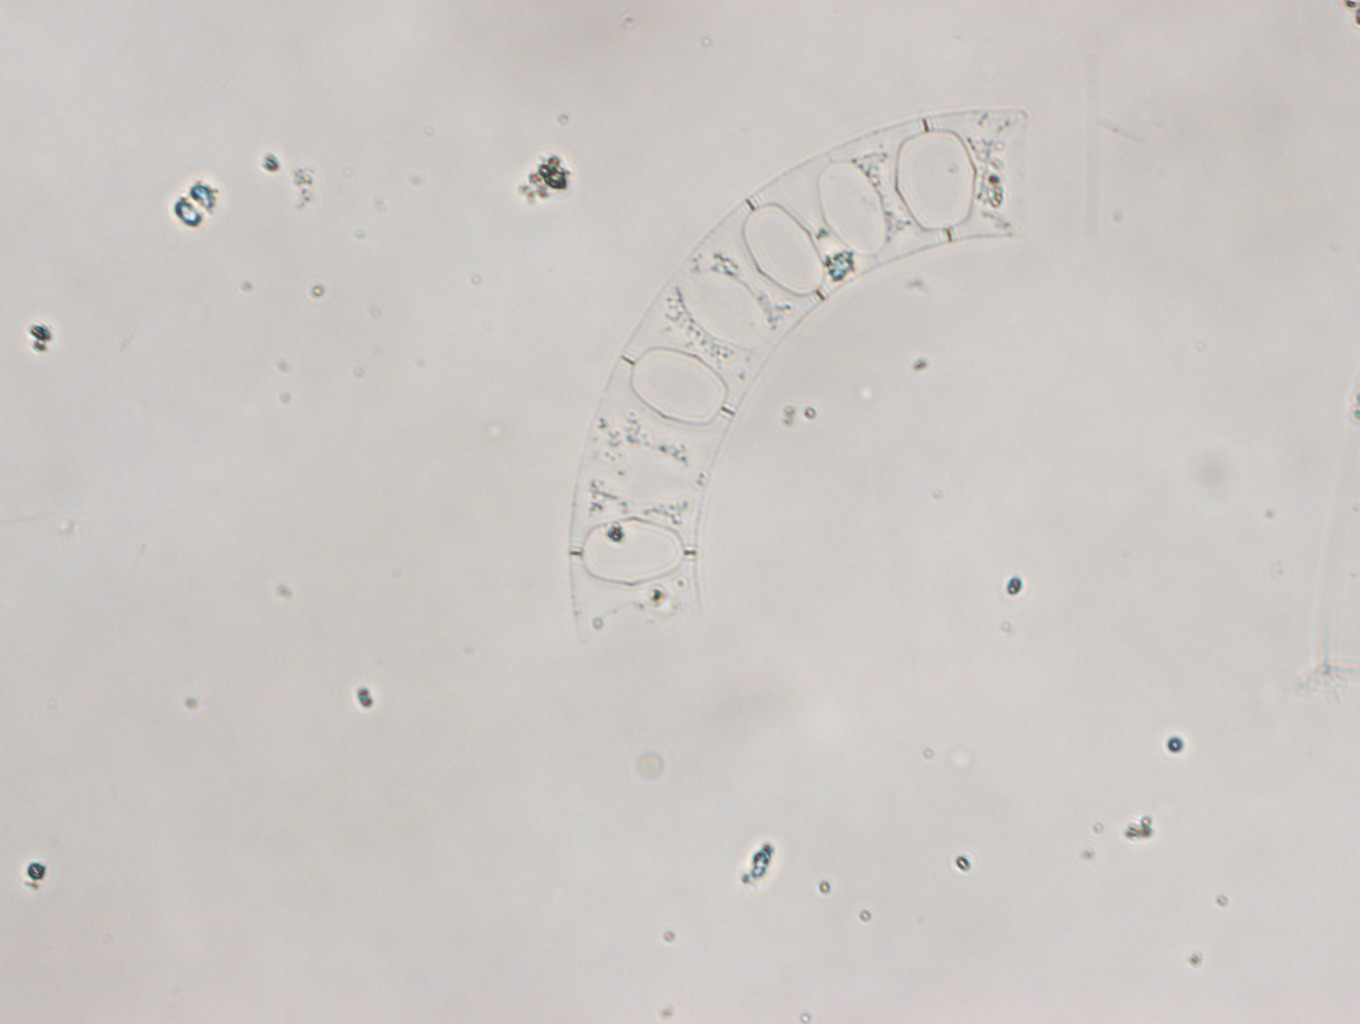eucampia: (569, 106, 1030, 643)
